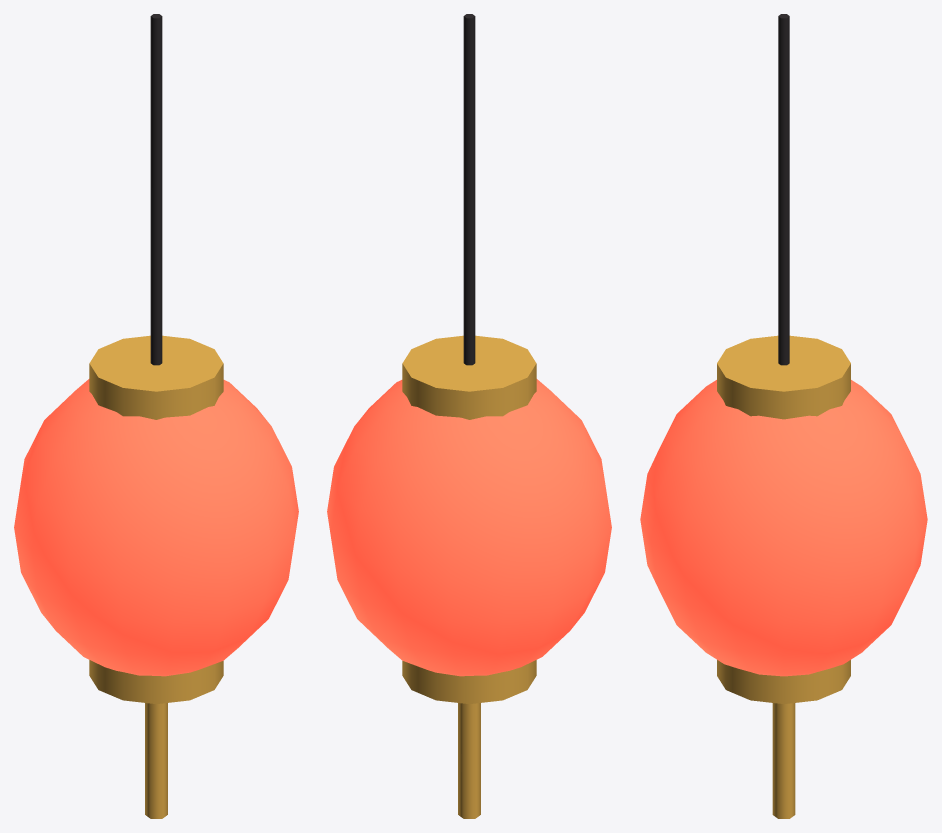
The model's file is lantern.glb.
3 renders of one model, left to right at view 1: azimuth 30°, elevation 25°; view 2: azimuth 150°, elevation 25°; view 3: azimuth 270°, elevation 25°, orthographic.
Parts seen in each view (by area): view 1: Body, CapT, String, CapB, Tassel; view 2: Body, CapT, String, CapB, Tassel; view 3: Body, CapT, String, CapB, Tassel.
Part boxes in pixels (x1,y1,x2,y2): Body: (14, 379, 298, 676); CapT: (89, 335, 223, 419); String: (150, 14, 162, 365); CapB: (89, 660, 223, 704); Tassel: (145, 703, 167, 818); Body: (327, 379, 611, 676); CapT: (402, 335, 536, 419); String: (463, 14, 475, 365); CapB: (402, 660, 536, 704); Tassel: (458, 703, 480, 818); Body: (640, 380, 927, 676); CapT: (717, 335, 850, 419); String: (778, 14, 789, 365); CapB: (717, 660, 850, 704); Tassel: (772, 703, 795, 818).
Size of the model in its own units: 0.3 by 0.92 by 0.3.
